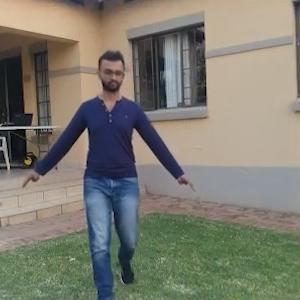land: (15, 32, 208, 295)
